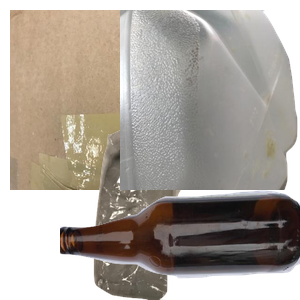cardboard: (10, 10, 250, 190)
glass: (60, 188, 300, 300)
plastic: (120, 10, 300, 190)
trash: (70, 120, 256, 300)
